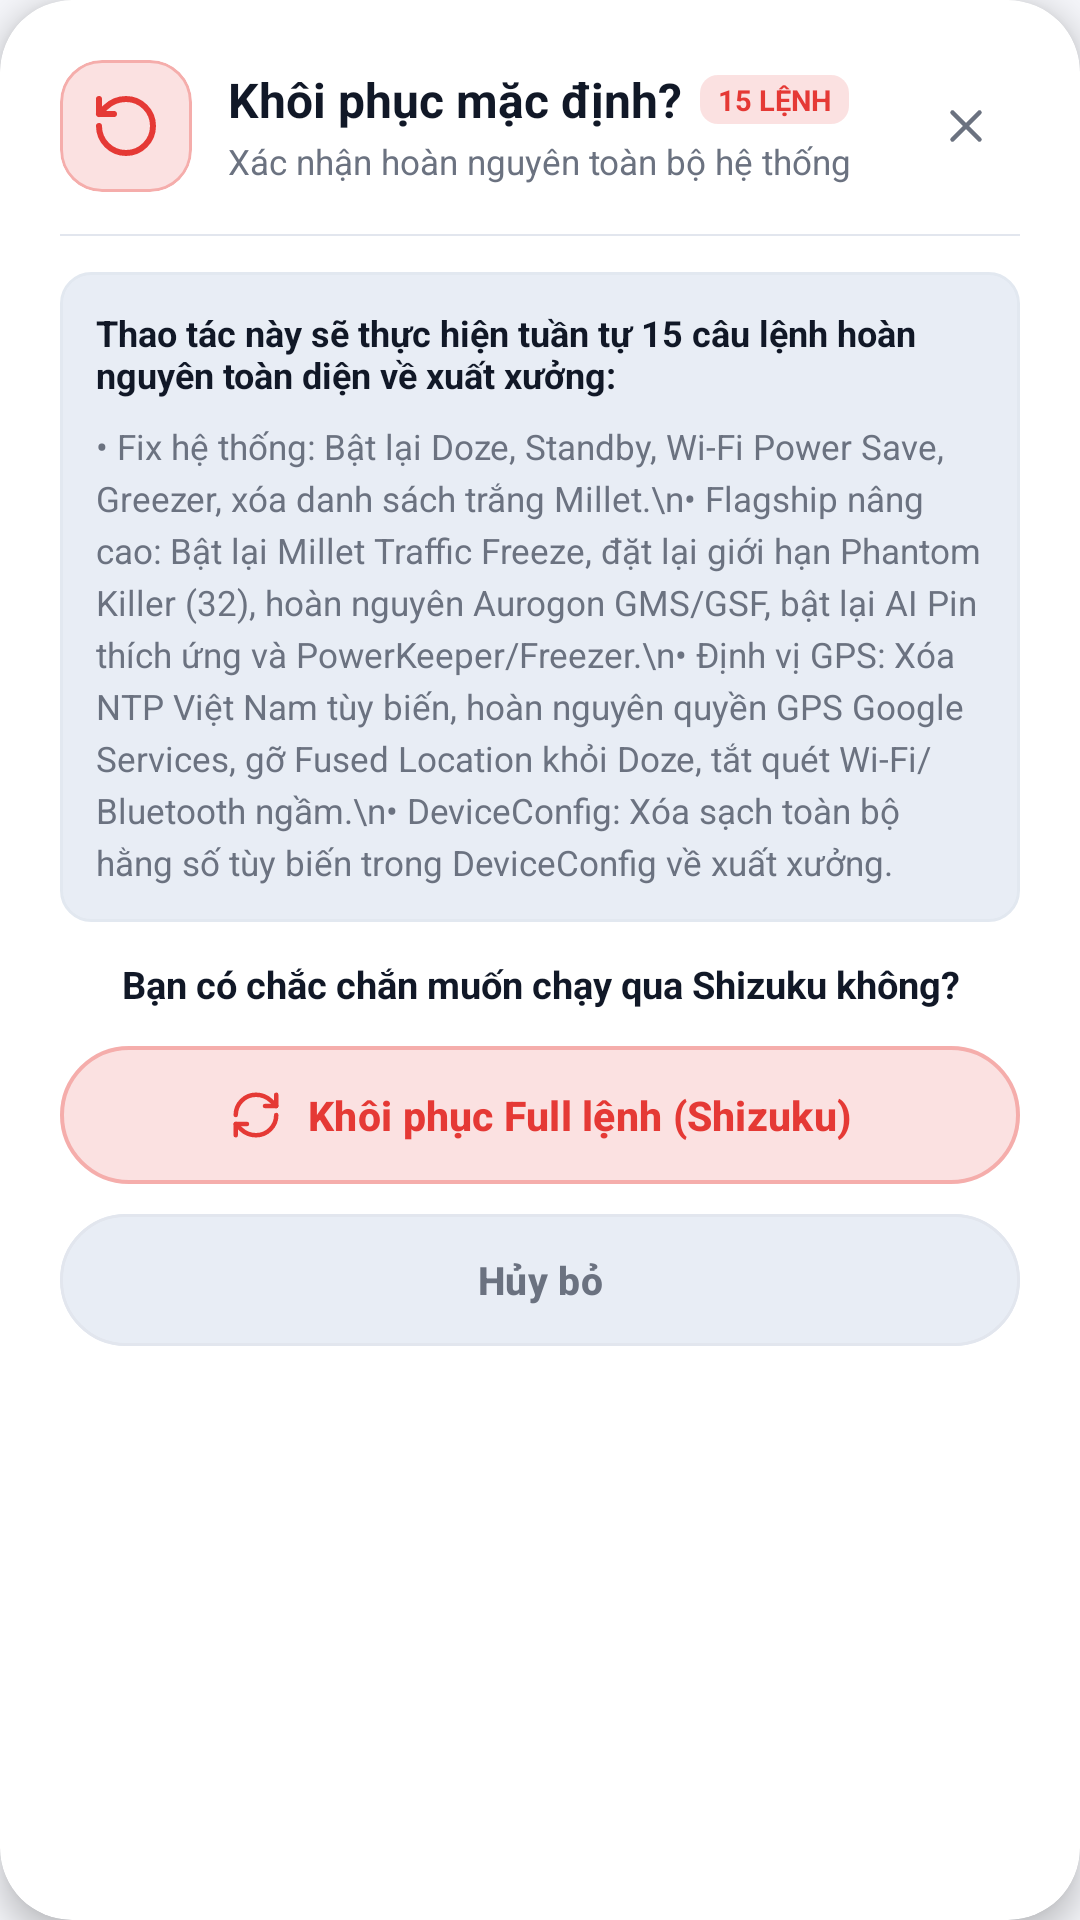

Point at icon controls on the screen. Image size 1080*1920, points as (x,y).
close: (966,126)
reset clock: (126,126)
